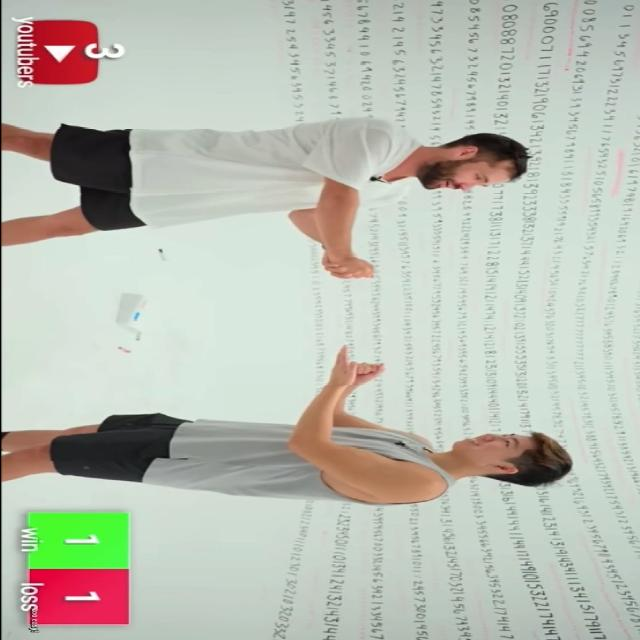Rock: (328, 255, 376, 279), (352, 362, 384, 381)
